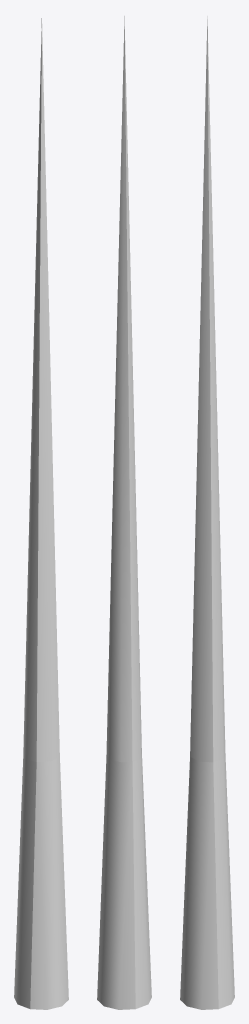
The model's file is stam.obj.
The picture shows the model from 3 angles, left to right: view 1: azimuth 30°, elevation 25°; view 2: azimuth 150°, elevation 25°; view 3: azimuth 330°, elevation 25°; orthographic projection.
Parts seen in each view (by area): view 1: stam; view 2: stam; view 3: stam.
Part boxes in pixels (bbox=[...]): stam: bbox=[14, 18, 68, 1009]; stam: bbox=[97, 16, 151, 1009]; stam: bbox=[180, 16, 234, 1009].
Bounding box in the file's own units: 9.6 × 189 × 9.13.
